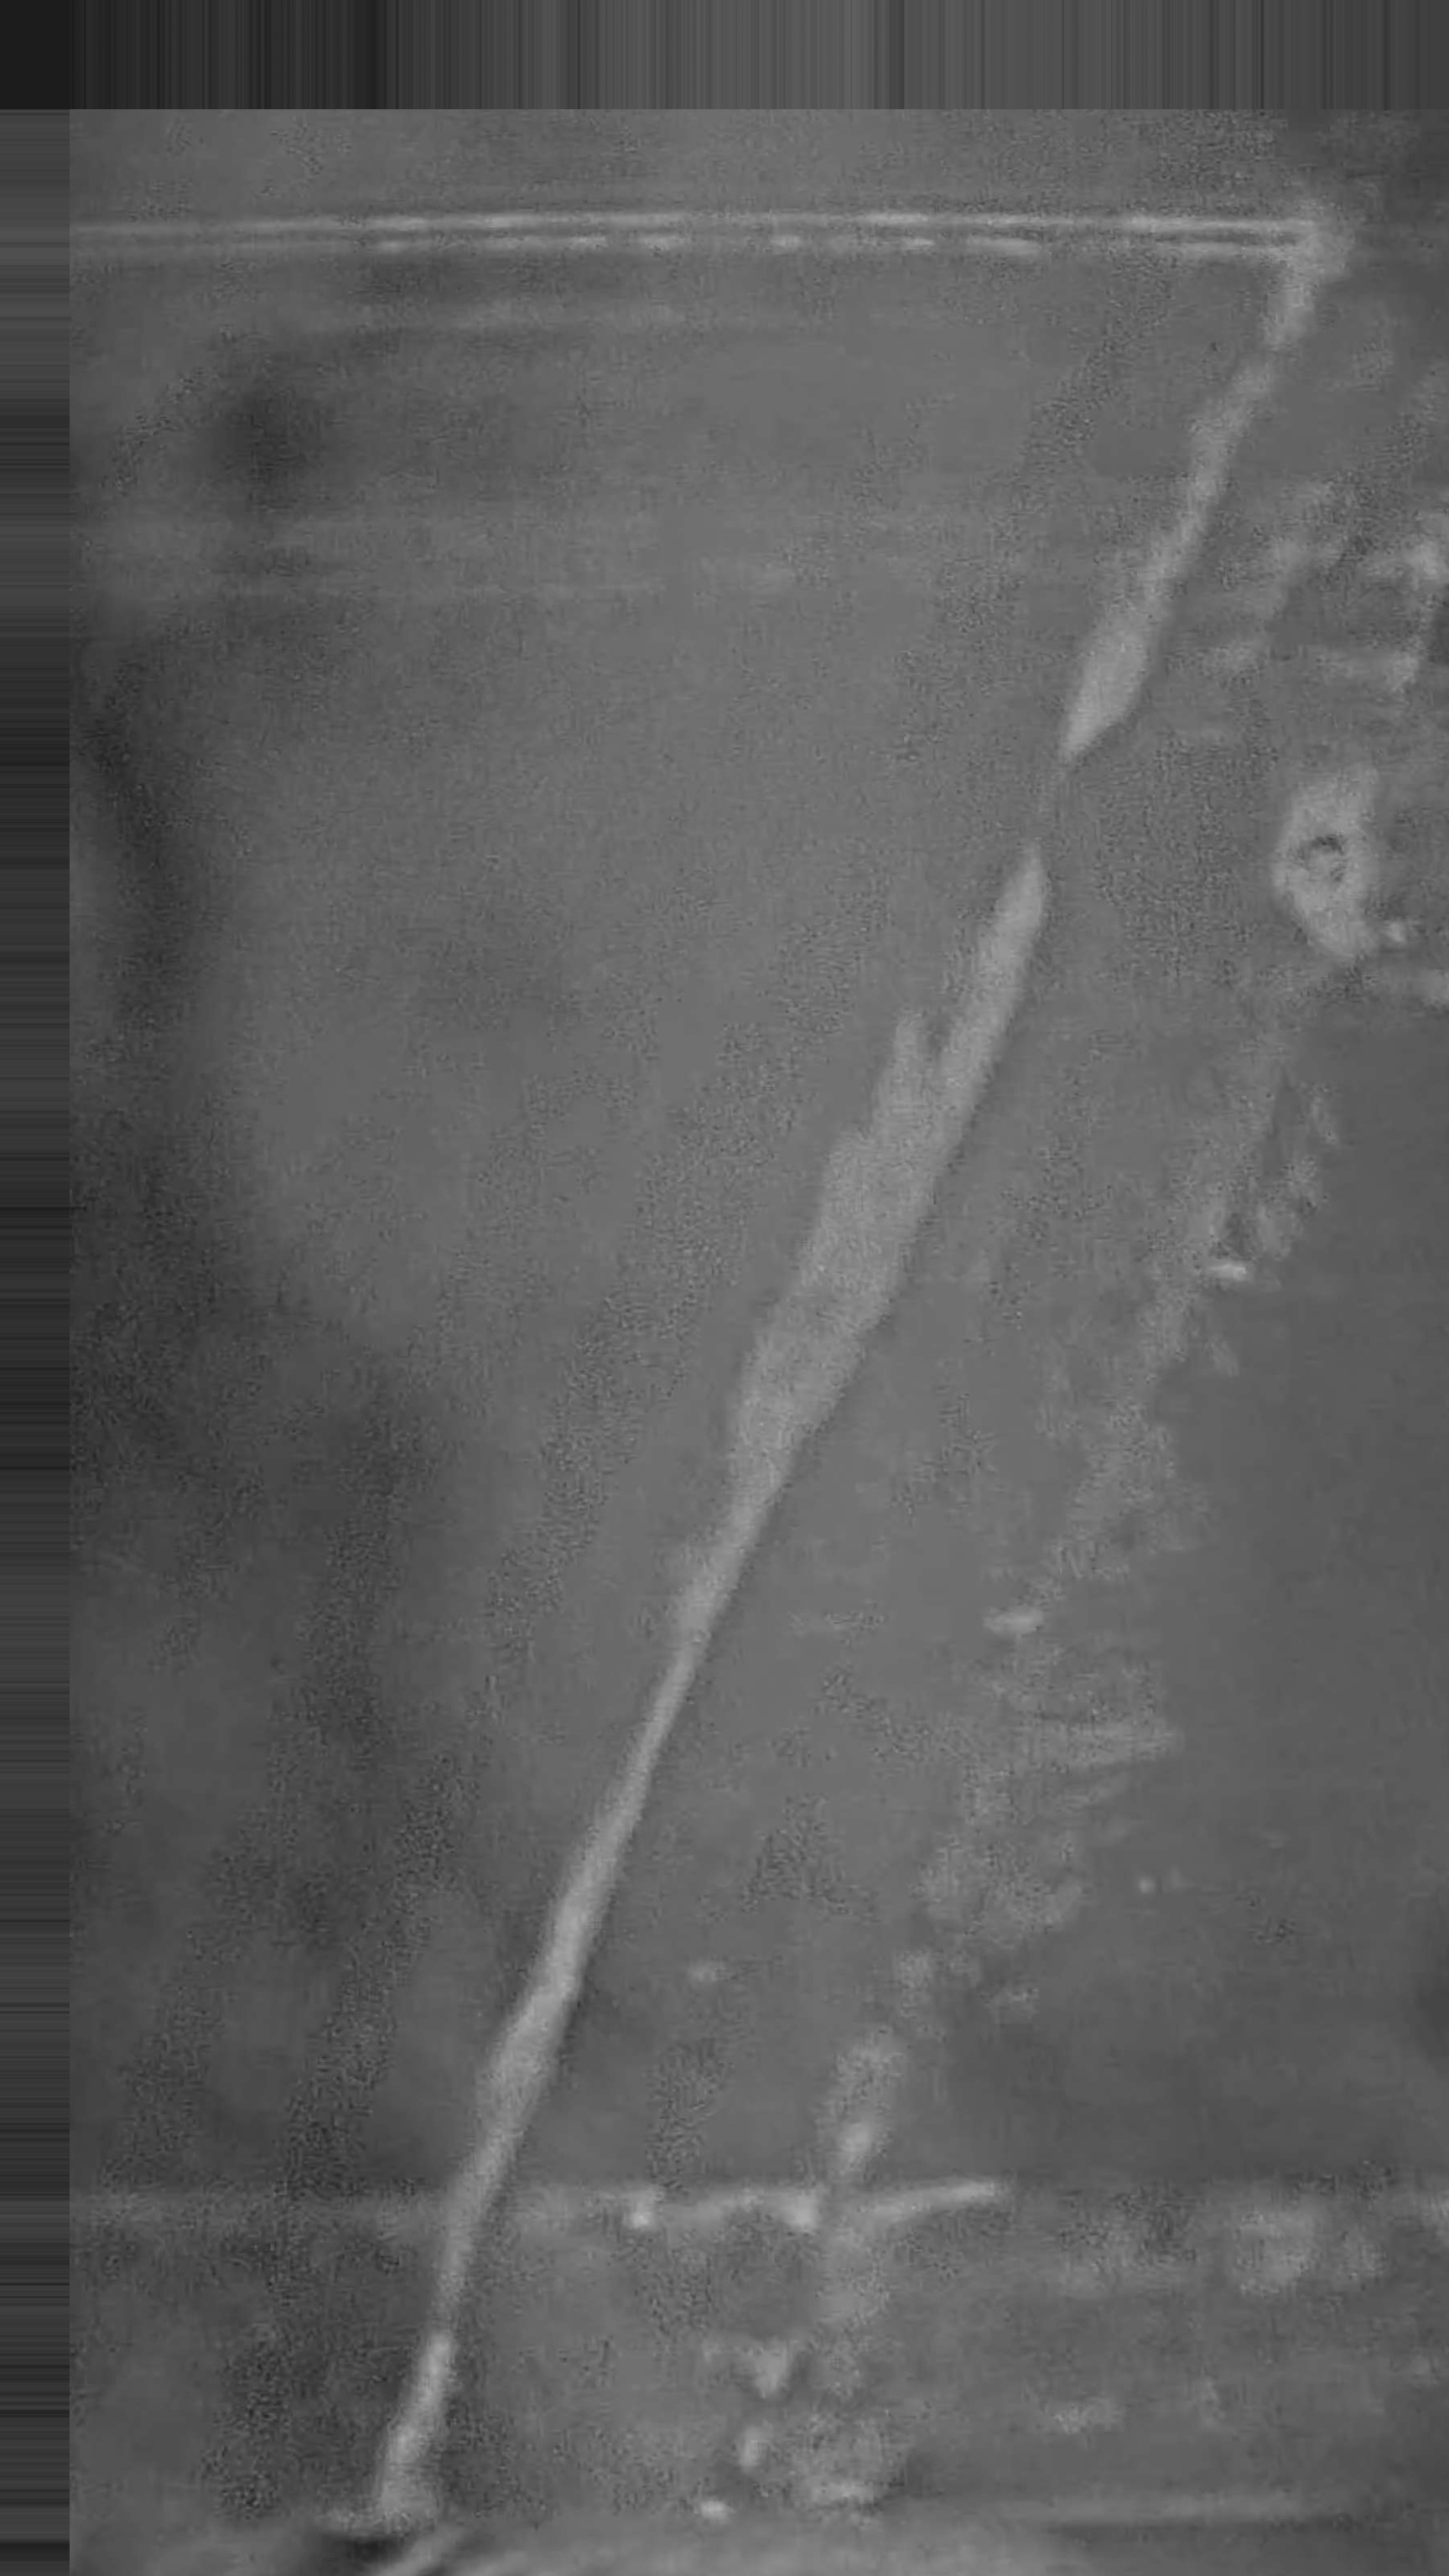splice_vulcanized: (251, 108, 1449, 2576)
